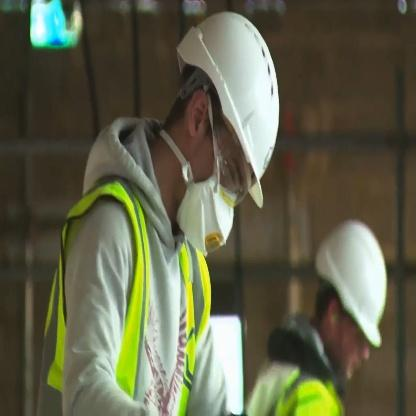helmet: (149, 9, 286, 273), (289, 216, 393, 391)
